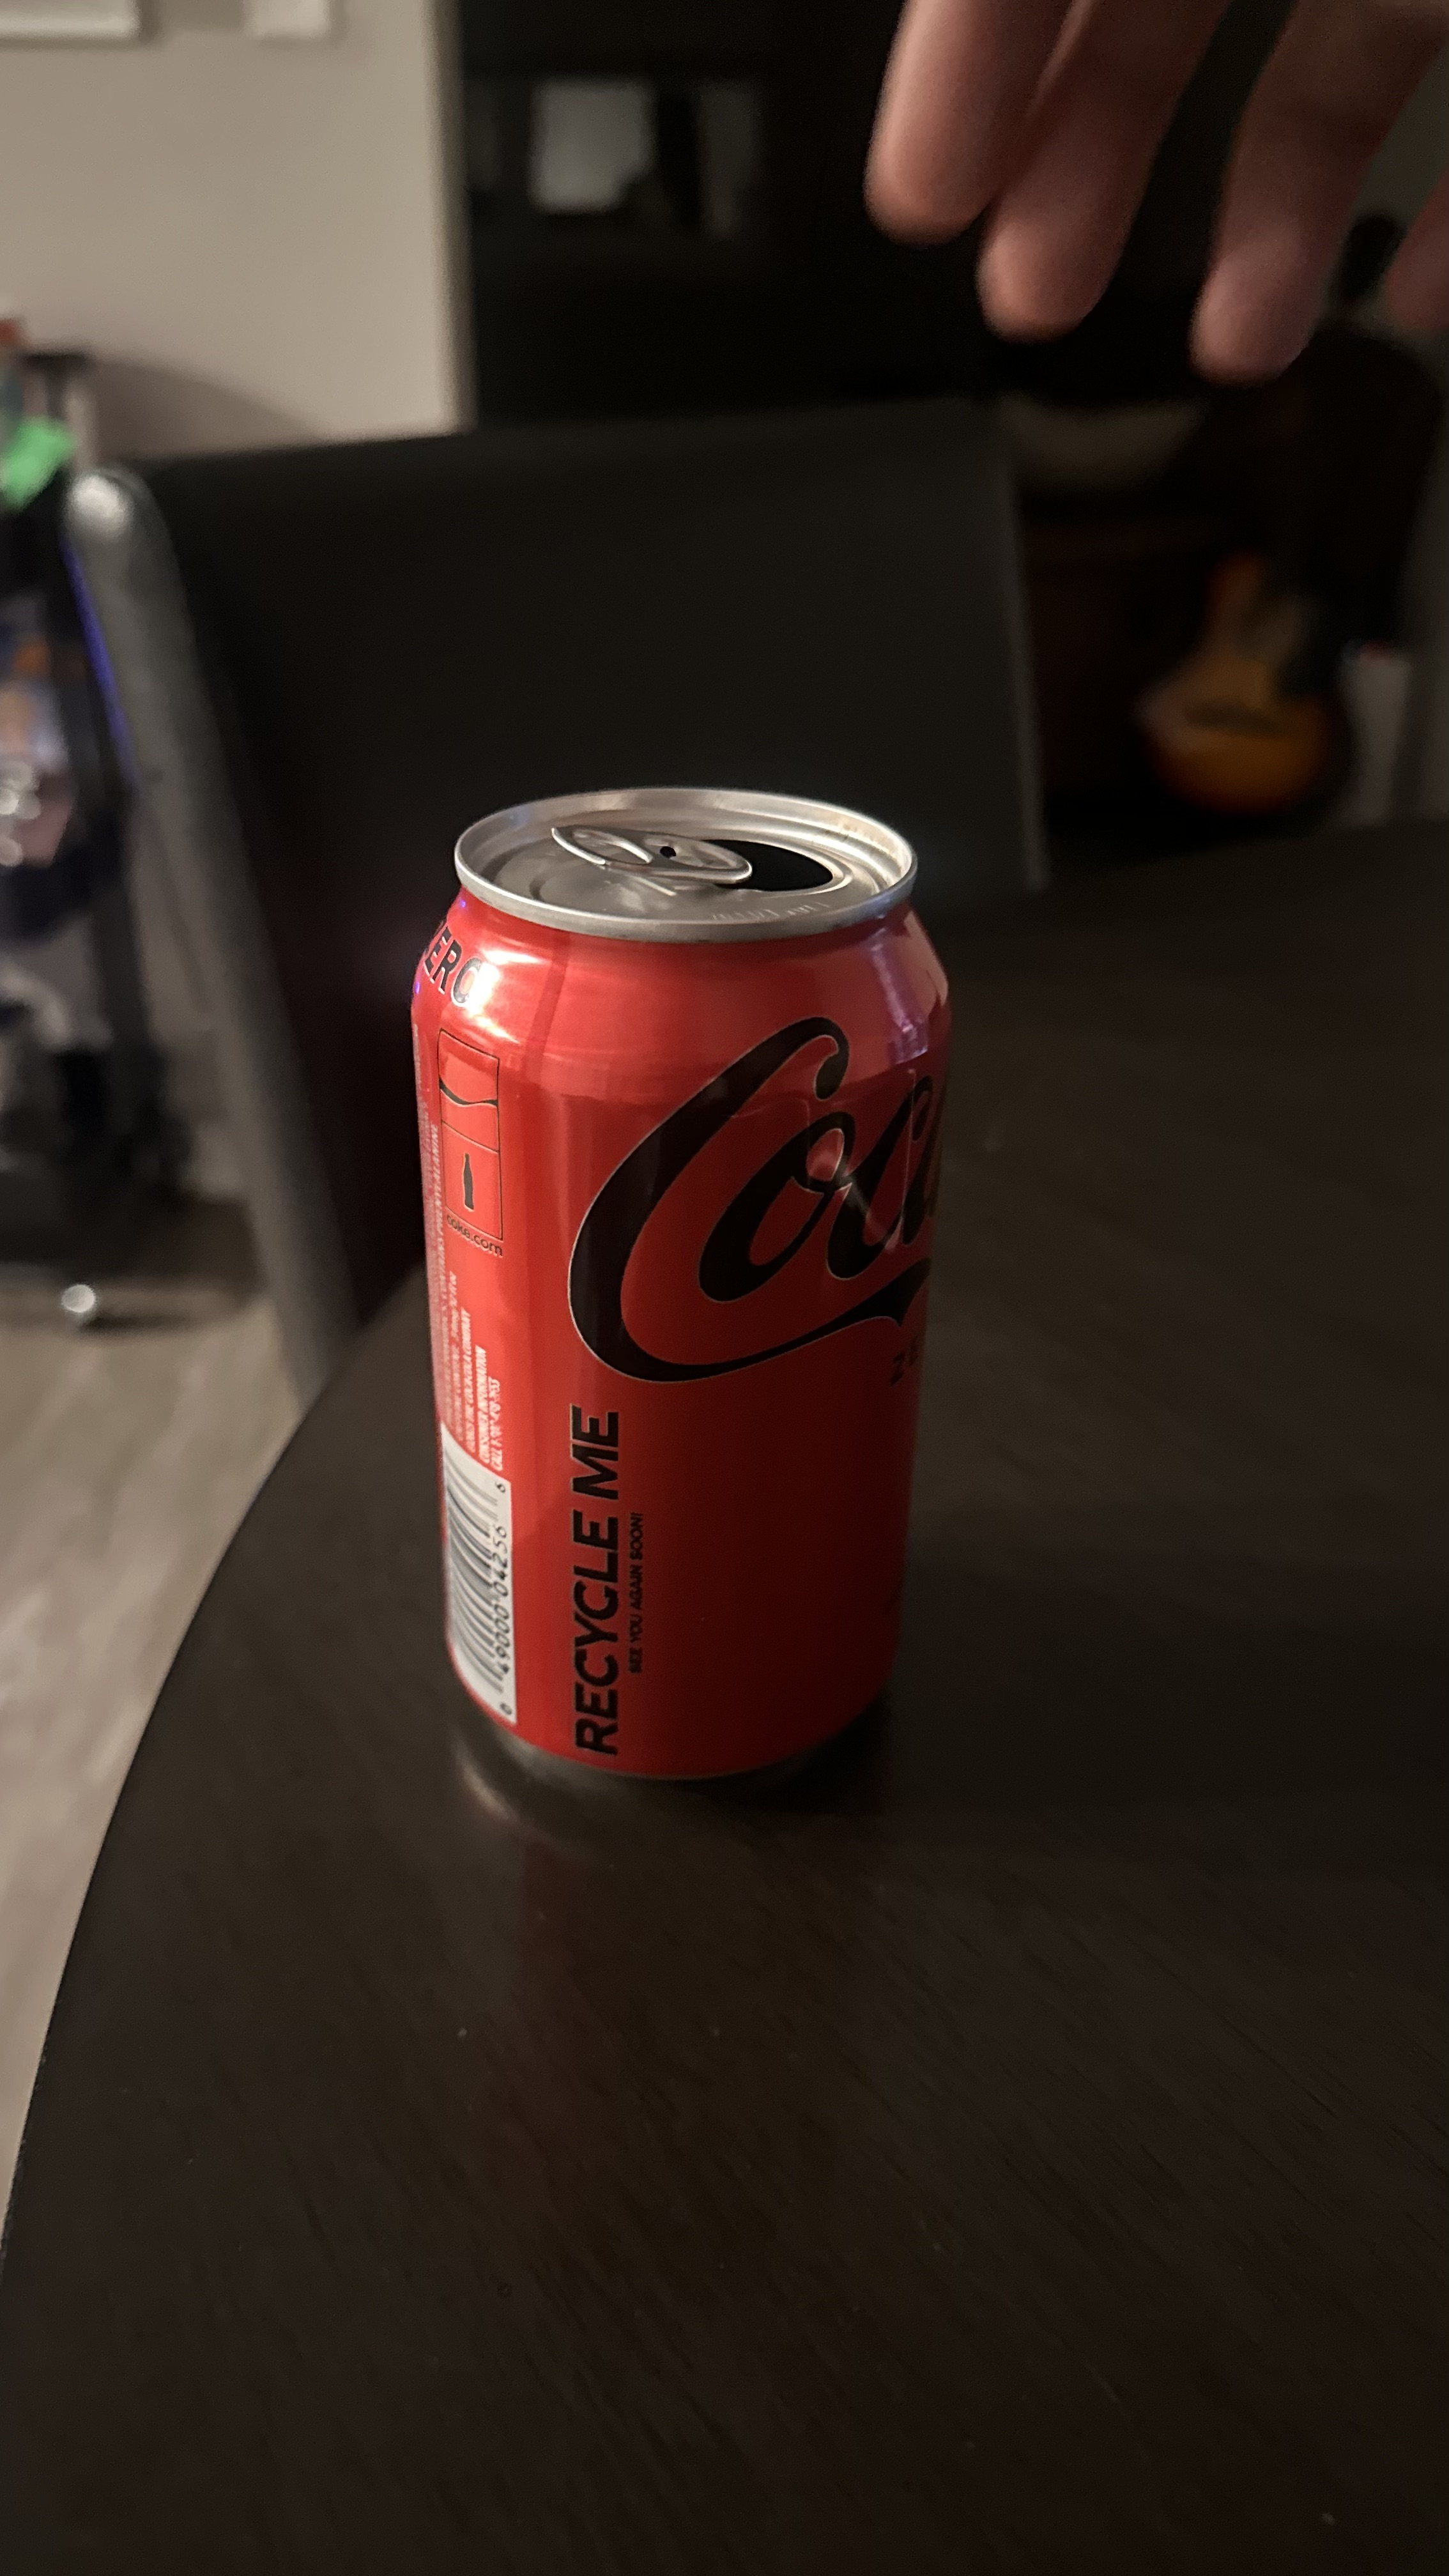Coke Zero: (356, 763, 998, 1819)
